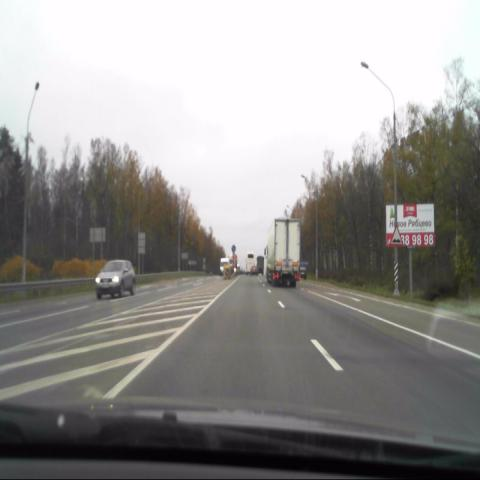1_16: (389, 224, 403, 247)
